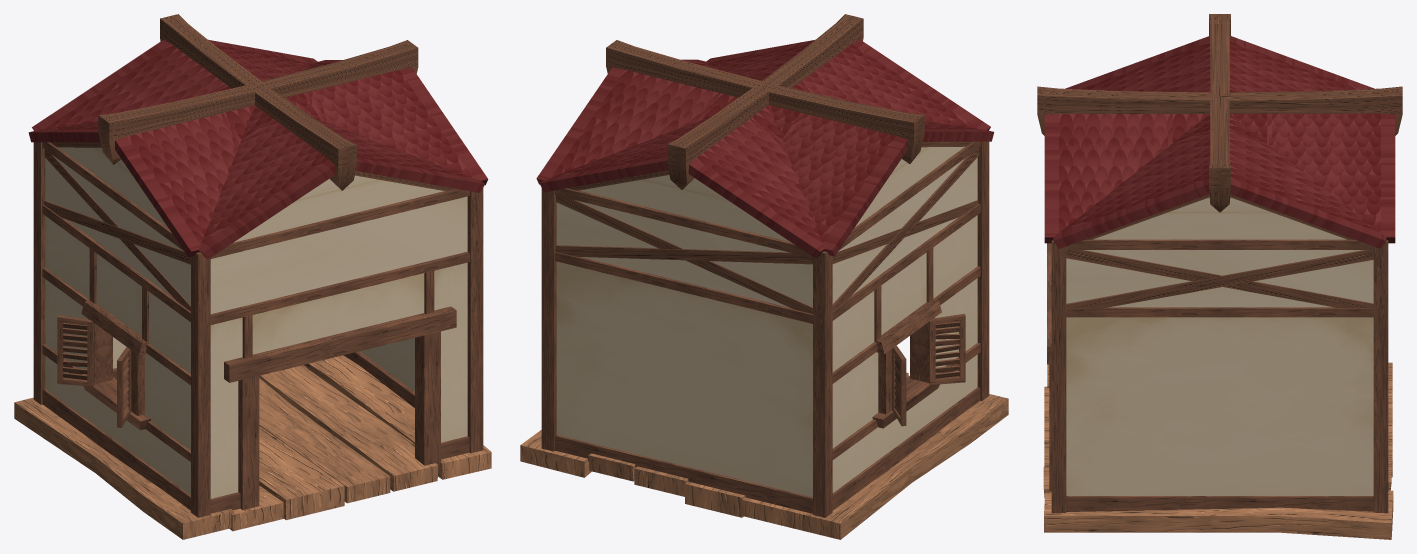
File: Shed_Final-FBX.fbx
3 views of the same model, side by side, from view 1: azimuth 30°, elevation 25°; view 2: azimuth 150°, elevation 25°; view 3: azimuth 270°, elevation 25° (orthographic). The views are drawn at different scales.
Visible parts, largest first — view 1: pCube3540; view 2: pCube3540; view 3: pCube3540.
Boxes of the visible parts, left/top/right/bottom form: pCube3540: left=14, top=14, right=491, bottom=539; pCube3540: left=520, top=14, right=1008, bottom=539; pCube3540: left=1037, top=14, right=1402, bottom=539.
Bounding box in the file's own units: 735 × 761 × 681.
